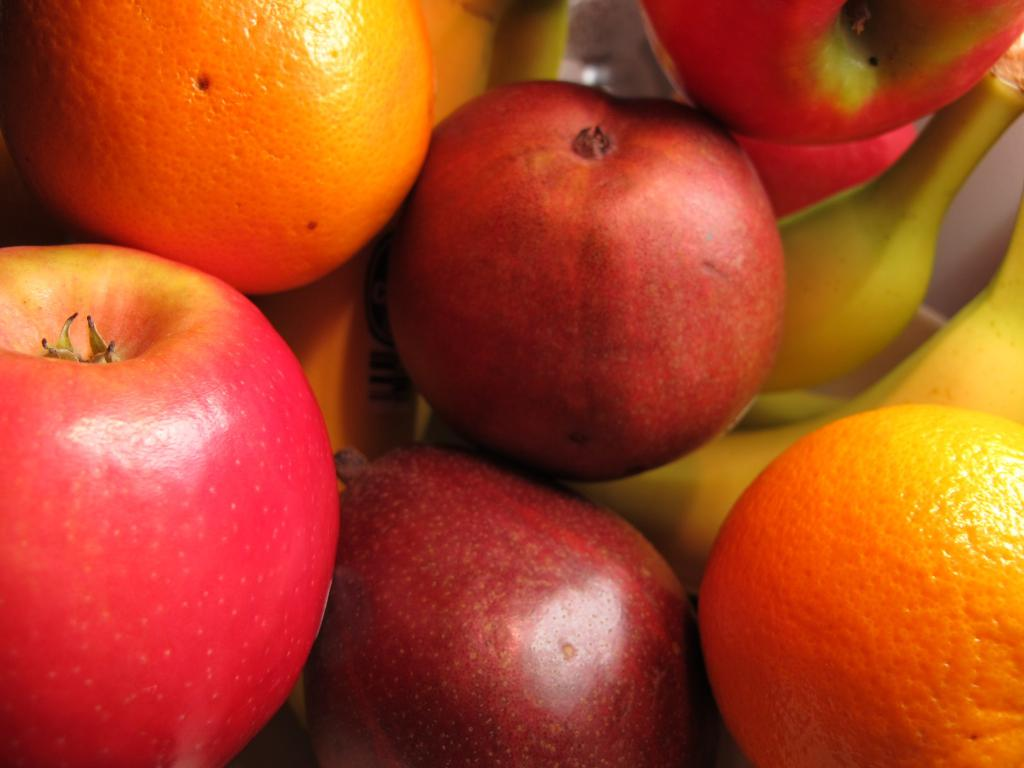Apple: (0, 235, 348, 767), (307, 438, 718, 767), (629, 0, 1023, 140)
